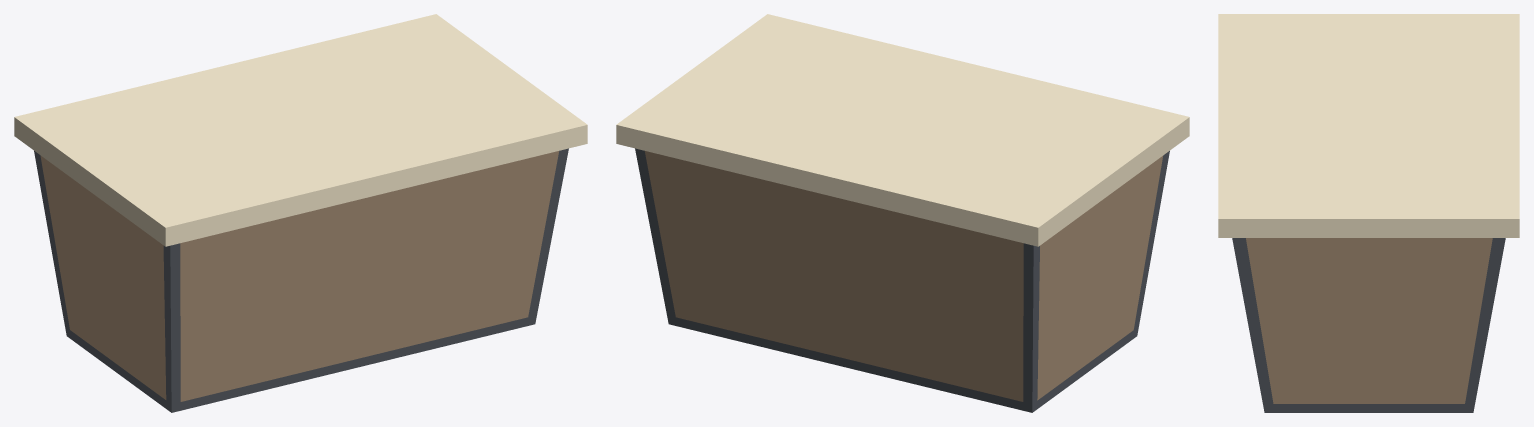
The model's file is Shop_Box.fbx.
3 views of the same model, side by side, from view 1: azimuth 30°, elevation 25°; view 2: azimuth 150°, elevation 25°; view 3: azimuth 270°, elevation 25° (orthographic).
Parts seen in each view (by area): view 1: Shop Box; view 2: Shop Box; view 3: Shop Box.
Part boxes in pixels (bbox=[...]): Shop Box: bbox=[14, 14, 587, 412]; Shop Box: bbox=[616, 14, 1189, 412]; Shop Box: bbox=[1218, 14, 1519, 412].
Bounding box in the file's own units: 464 × 220 × 288.
